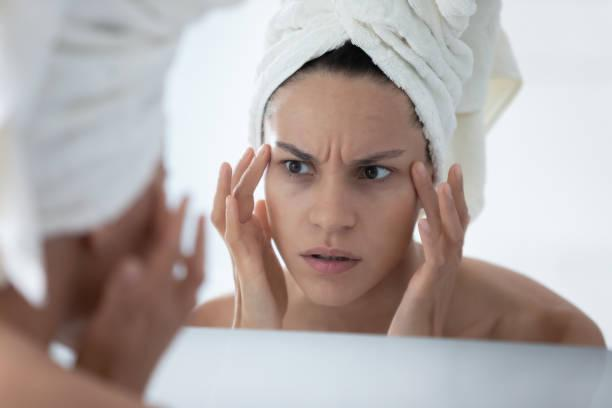Dry-Skin: (291, 88, 374, 163)
